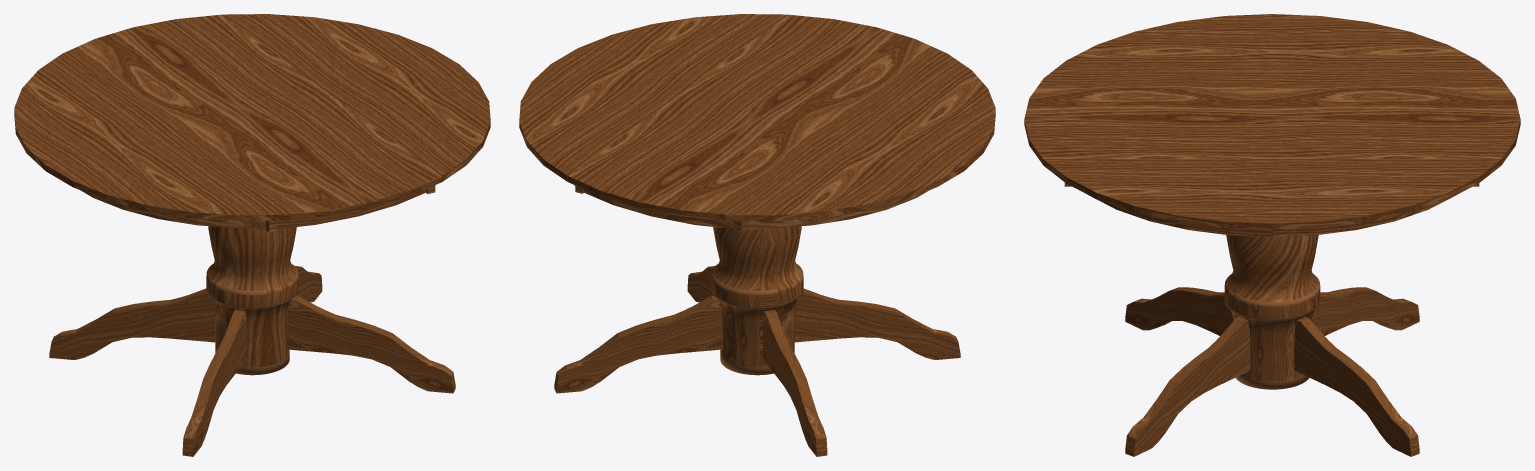
File: oakTable.glb
3 views of the same model, side by side, from view 1: azimuth 30°, elevation 25°; view 2: azimuth 150°, elevation 25°; view 3: azimuth 270°, elevation 25° (orthographic). The views are drawn at different scales.
Parts seen in each view (by area): view 1: Circle, Cube_Cube.001, Circle.001_Circle.002; view 2: Circle, Cube_Cube.001, Circle.001_Circle.002; view 3: Circle, Cube_Cube.001, Circle.001_Circle.002.
Boxes of the visible parts, <box> form: Circle: <box>14,14,490,232</box>; Cube_Cube.001: <box>49,265,455,456</box>; Circle.001_Circle.002: <box>206,226,298,375</box>; Circle: <box>519,14,995,232</box>; Cube_Cube.001: <box>554,265,960,456</box>; Circle.001_Circle.002: <box>711,226,803,375</box>; Circle: <box>1024,14,1520,236</box>; Cube_Cube.001: <box>1125,287,1419,456</box>; Circle.001_Circle.002: <box>1224,235,1320,389</box>.
Size of the model in its own units: 1.24 by 0.7413 by 1.24.
2 materials, 2 textured.
